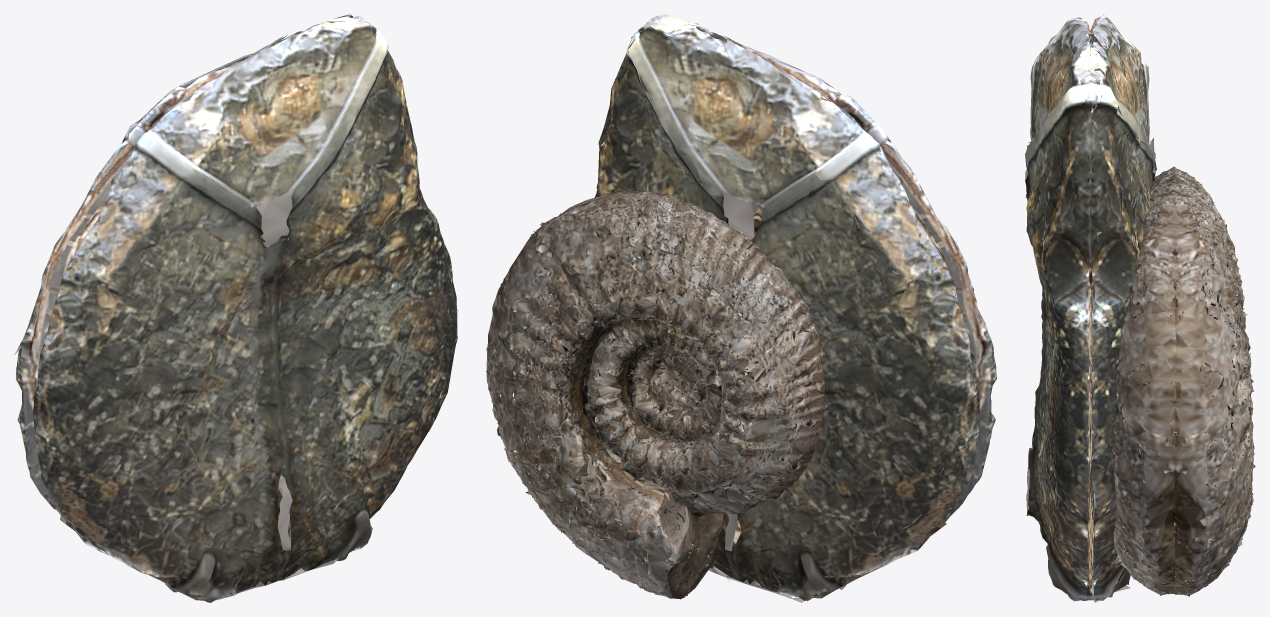
File: Ammonite_cut.glb
3 renders of one model, left to right at view 1: azimuth 30°, elevation 25°; view 2: azimuth 150°, elevation 25°; view 3: azimuth 270°, elevation 25°, orthographic. The views are drawn at different scales.
Visible parts, largest first — view 1: Object_2.001, export; view 2: export, Object_2.001; view 3: export, Object_2.001.
Boxes of the visible parts, bbox=[...] form: Object_2.001: bbox=[33, 19, 457, 602]; export: bbox=[14, 14, 404, 553]; export: bbox=[486, 19, 980, 602]; Object_2.001: bbox=[611, 14, 996, 589]; export: bbox=[1085, 14, 1255, 602]; Object_2.001: bbox=[1025, 17, 1097, 601].
Bounding box in the file's own units: 2.39 × 2.73 × 1.02.
4 materials, 4 textured.
